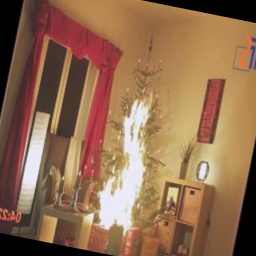fire: (86, 80, 175, 241)
